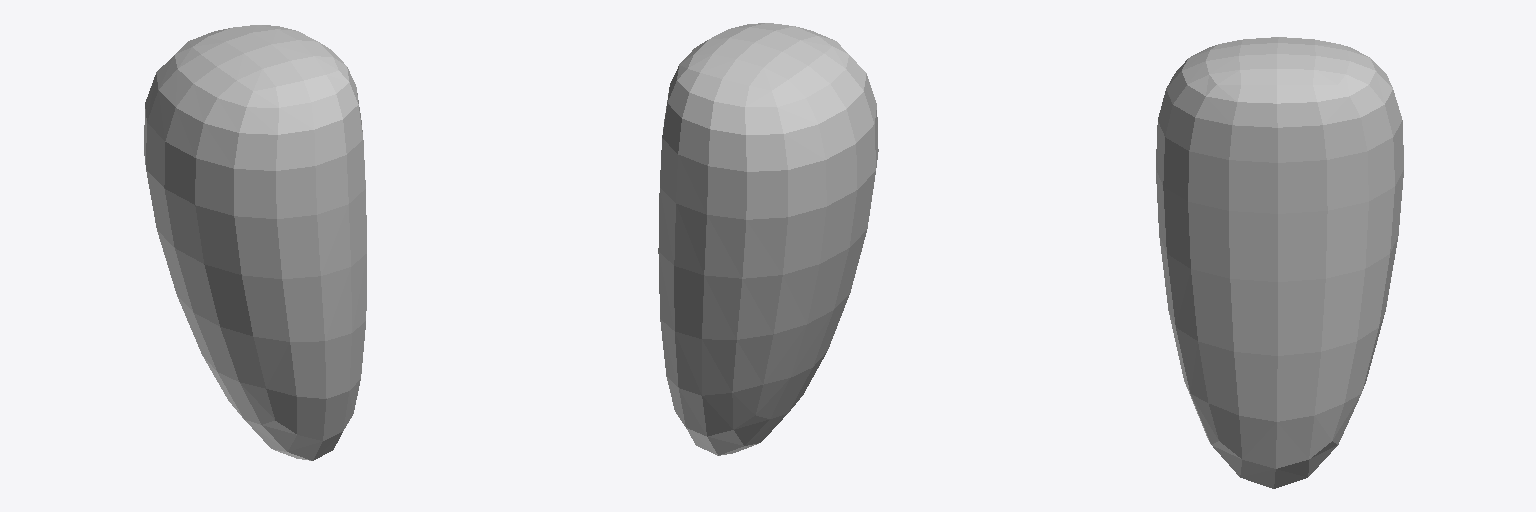
Rendered from robot_armL.obj.
The picture shows the model from 3 angles: view 1: azimuth 30°, elevation 25°; view 2: azimuth 150°, elevation 25°; view 3: azimuth 270°, elevation 25°; orthographic projection.
Parts seen in each view (by area): view 1: arml_Metal; view 2: arml_Metal; view 3: arml_Metal.
Part boxes in pixels (x1,y1,x2,y2): arml_Metal: (144,25,366,460); arml_Metal: (658,23,878,455); arml_Metal: (1156,37,1403,488).
Bounding box in the file's own units: 0.7505 × 1.66 × 0.8925.